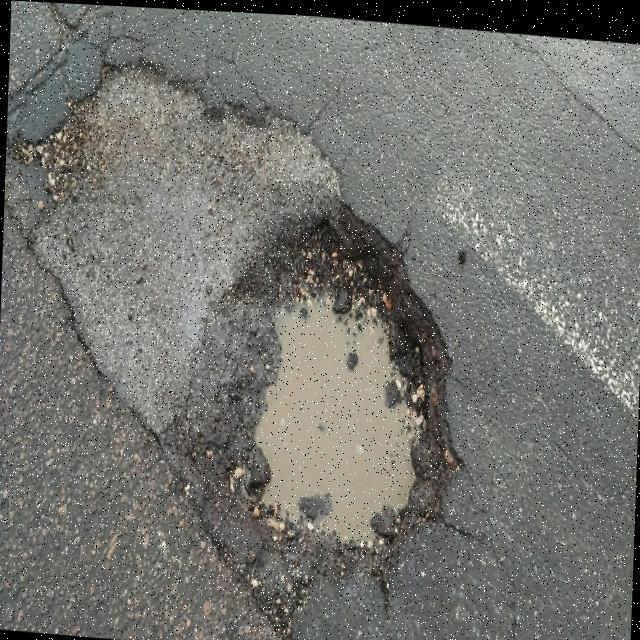Pothole: (29, 64, 457, 640)
